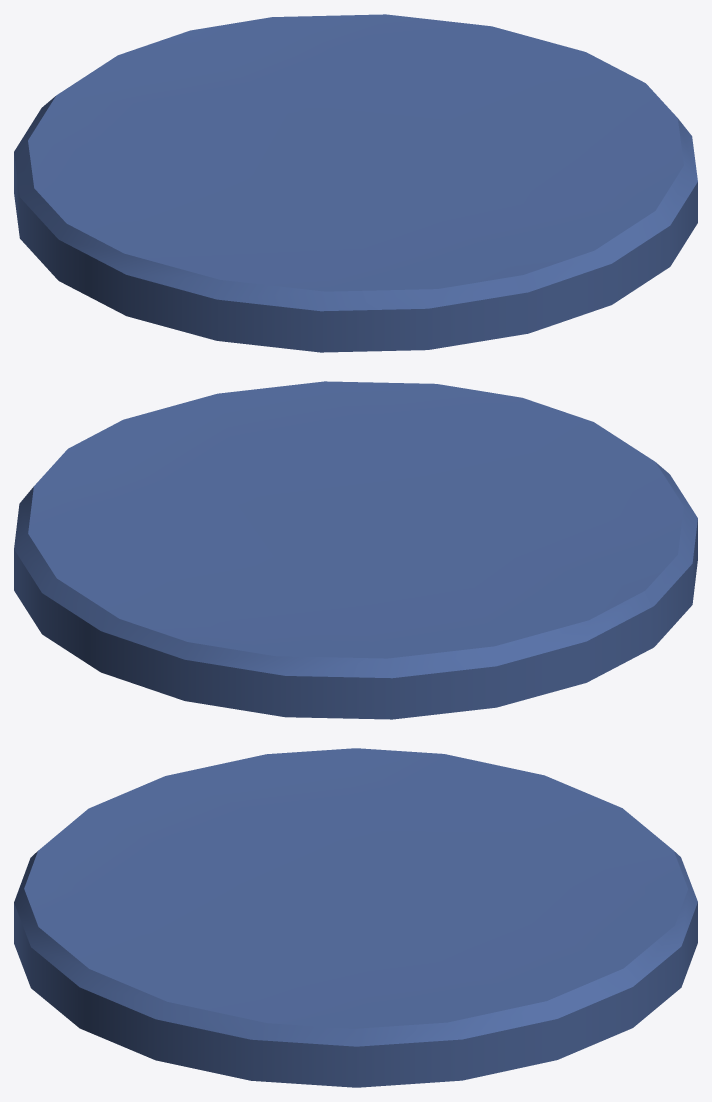
File: Floor_Triggerbutton_02.fbx
The picture shows the model from 3 angles, top to bottom: view 1: azimuth 30°, elevation 25°; view 2: azimuth 150°, elevation 25°; view 3: azimuth 270°, elevation 25°; orthographic projection.
Parts seen in each view (by area): view 1: Floor_Triggerbutton_02; view 2: Floor_Triggerbutton_02; view 3: Floor_Triggerbutton_02.
Boxes of the visible parts, left/top/right/bottom form: Floor_Triggerbutton_02: left=14, top=14, right=697, bottom=352; Floor_Triggerbutton_02: left=14, top=381, right=697, bottom=719; Floor_Triggerbutton_02: left=14, top=748, right=697, bottom=1087.
Size of the model in its own units: 78.61 by 6.93 by 78.61.
